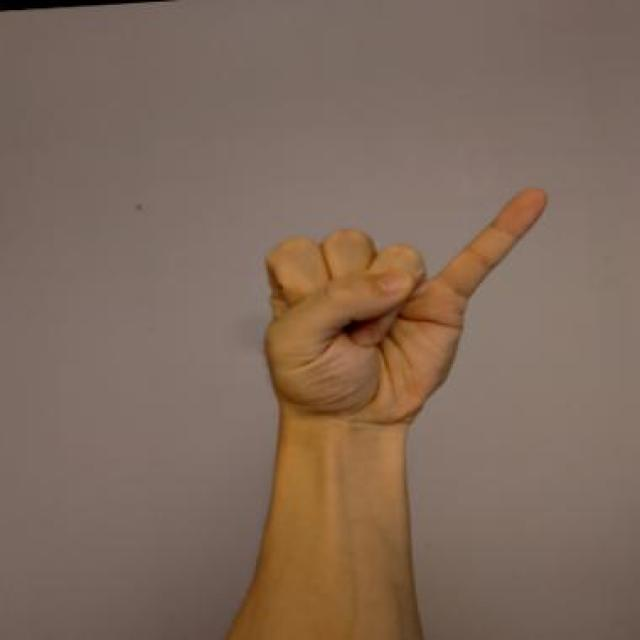I: (244, 180, 571, 436)
